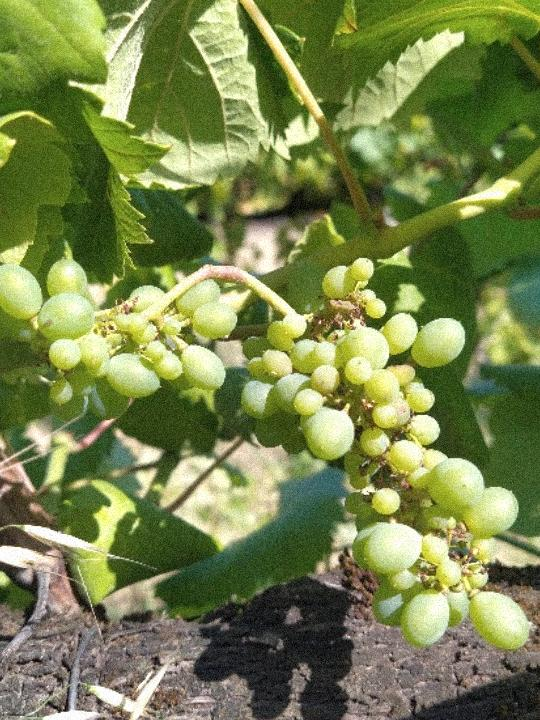grape: (0, 242, 540, 660)
